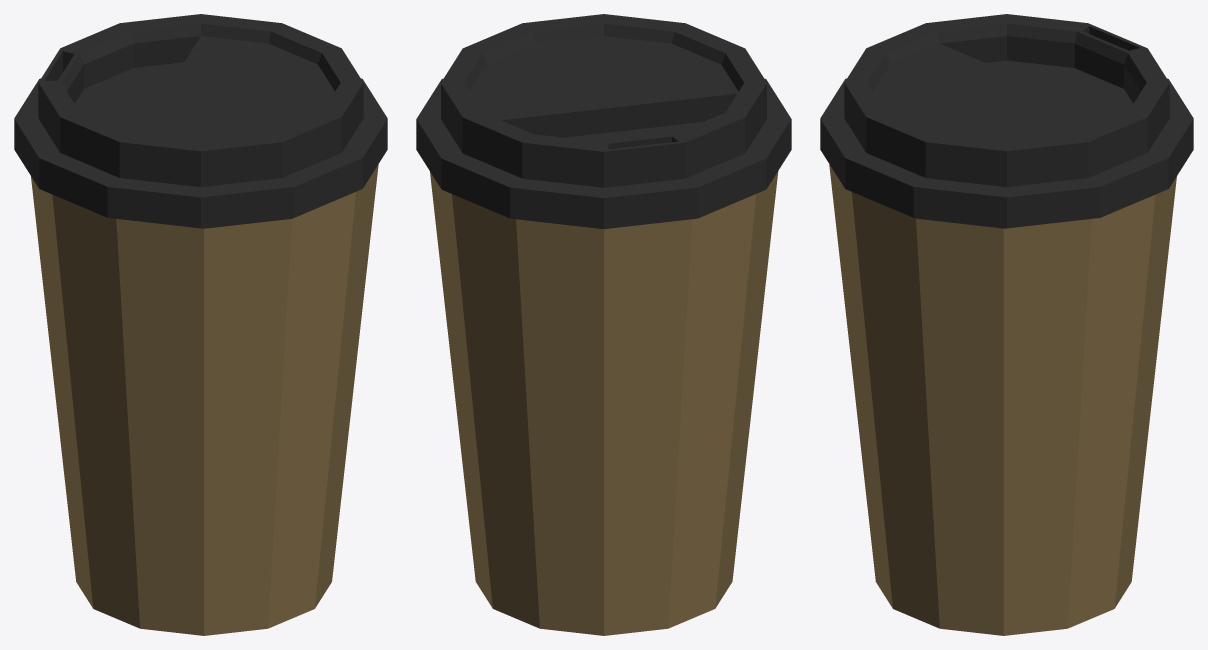
File: CoffeCup.fbx
3 views of the same model, side by side, from view 1: azimuth 30°, elevation 25°; view 2: azimuth 150°, elevation 25°; view 3: azimuth 270°, elevation 25° (orthographic).
Visible parts, largest first — view 1: Circle; view 2: Circle; view 3: Circle.
Boxes of the visible parts, x1=… form: Circle: x1=14, y1=14, x2=387, y2=635; Circle: x1=416, y1=14, x2=791, y2=635; Circle: x1=820, y1=14, x2=1193, y2=635.
Bounding box in the file's own units: 321 × 472 × 321.
